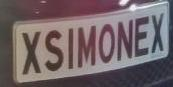0: (97, 19, 117, 68)
1: (62, 21, 78, 74)
E: (133, 12, 151, 61)
M: (75, 21, 97, 75)
N: (117, 16, 133, 65)
S: (43, 26, 66, 76)
X: (21, 28, 44, 78), (149, 8, 165, 57)
